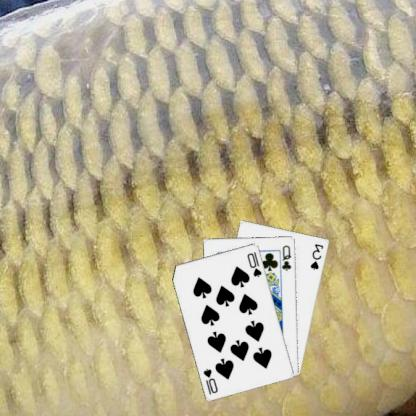10S: (202, 366, 221, 396), (246, 249, 265, 278)
3S: (310, 241, 326, 271)
QC: (282, 242, 294, 272)
